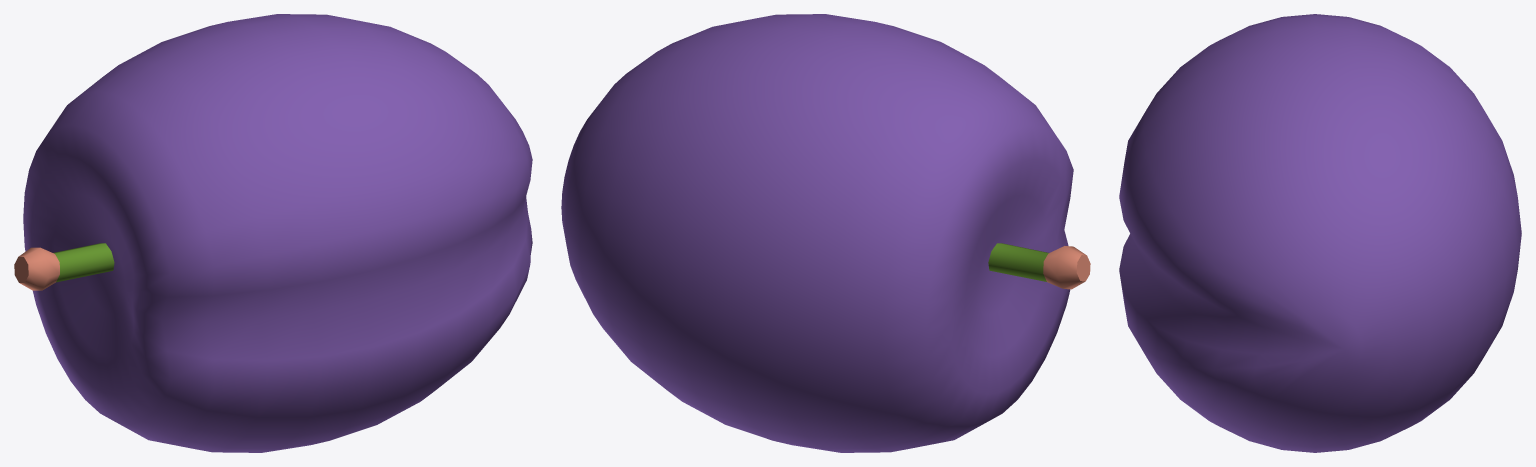
File: Fruit_Plum.fbx
3 views of the same model, side by side, from view 1: azimuth 30°, elevation 25°; view 2: azimuth 150°, elevation 25°; view 3: azimuth 270°, elevation 25° (orthographic). The views are drawn at different scales.
Parts seen in each view (by area): view 1: Plum; view 2: Plum; view 3: Plum.
Boxes of the visible parts, x1,y1,x2,y2 form: Plum: (14, 14, 532, 452); Plum: (561, 14, 1090, 452); Plum: (1119, 14, 1521, 452).
Bounding box in the file's own units: 116 × 86.93 × 85.
